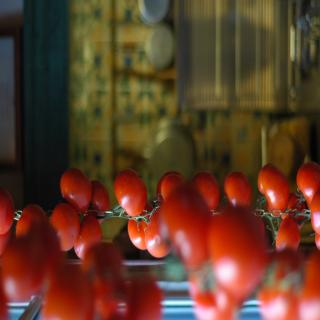Tomato: (110, 168, 149, 221), (255, 165, 290, 217), (59, 166, 93, 212), (190, 169, 221, 214), (51, 200, 80, 248), (294, 162, 320, 209), (154, 168, 182, 209), (222, 170, 252, 207), (16, 203, 46, 236), (301, 190, 320, 231), (90, 180, 108, 222), (0, 187, 15, 233), (161, 175, 184, 202)
